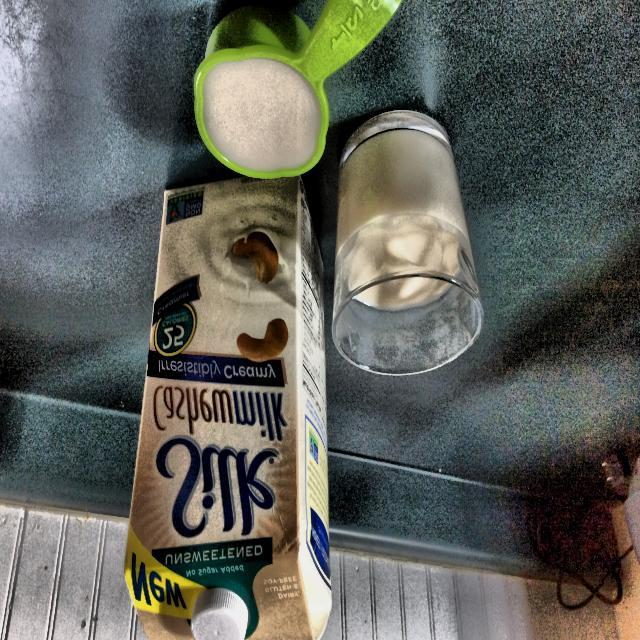cardboard: (123, 175, 331, 640)
